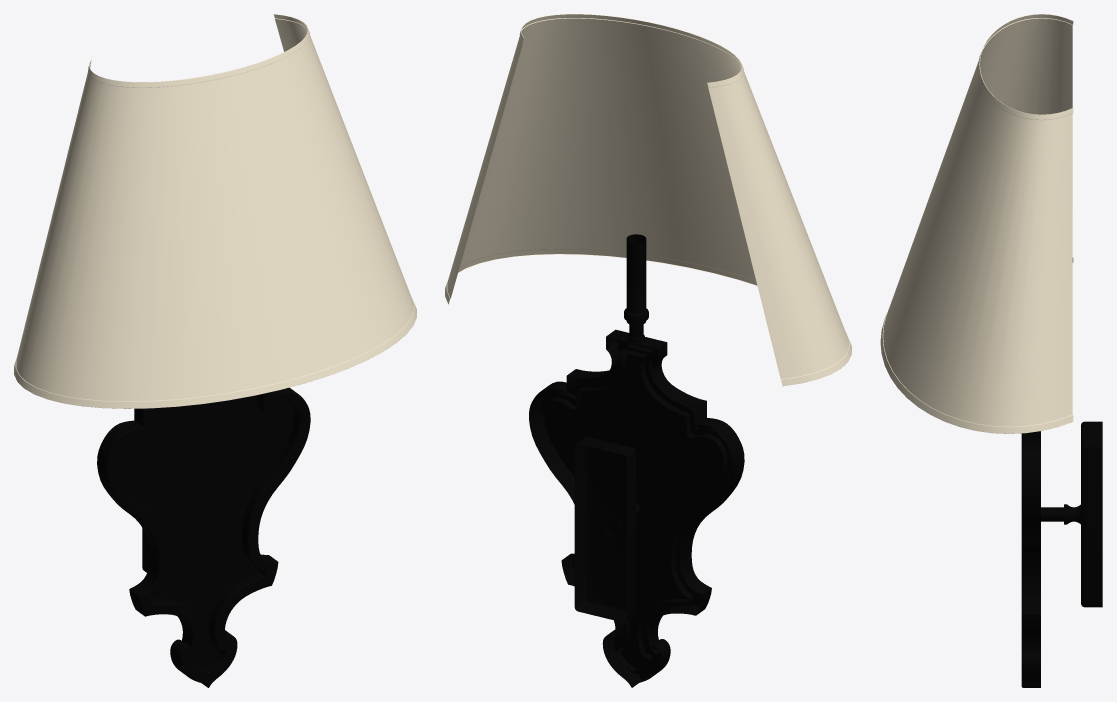
Rendered from bra.FBX.
3 views of the same model, side by side, from view 1: azimuth 30°, elevation 25°; view 2: azimuth 150°, elevation 25°; view 3: azimuth 270°, elevation 25° (orthographic). The views are drawn at different scales.
Visible parts, largest first — view 1: bra; view 2: bra; view 3: bra.
Part boxes in pixels (x1,y1,x2,y2): bra: (14,14,416,687); bra: (445,14,851,687); bra: (880,14,1102,687).
Bounding box in the file's own units: 281 × 444 × 143.
